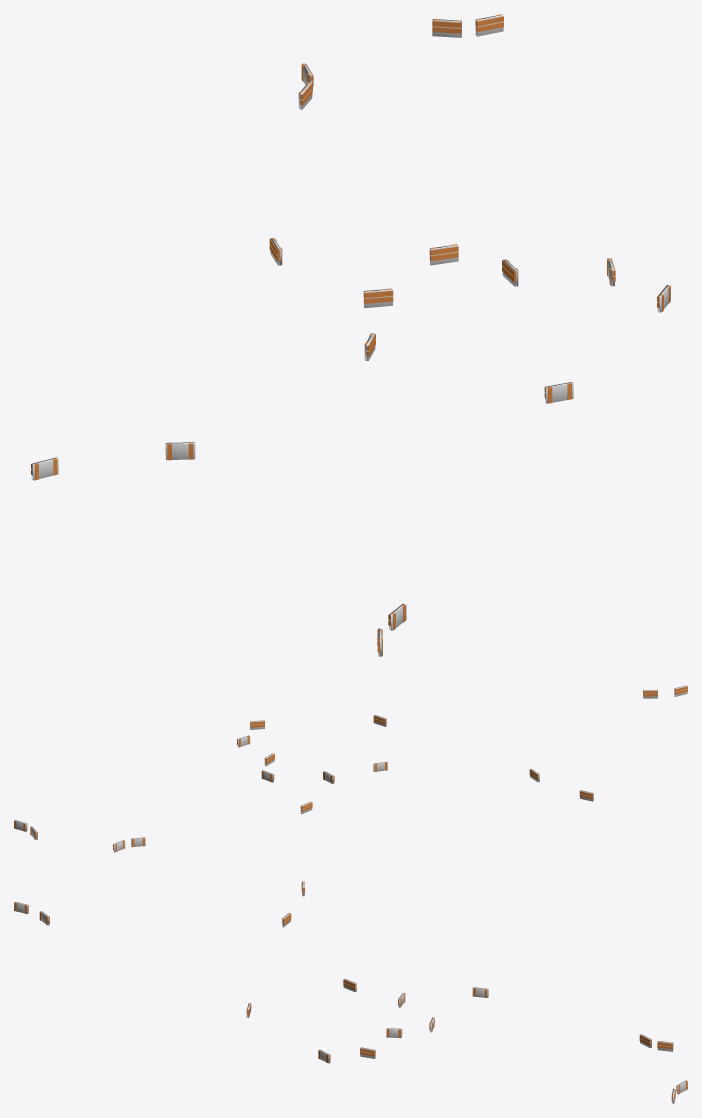
File: fences.glb
3 renders of one model, top to bottom at view 1: azimuth 30°, elevation 25°; view 2: azimuth 150°, elevation 25°; view 3: azimuth 270°, elevation 25°, orthographic. The views are drawn at different scales.
Bounding box in the file's own units: 68.48 × 1.33 × 91.2.
1 material, 1 textured.
